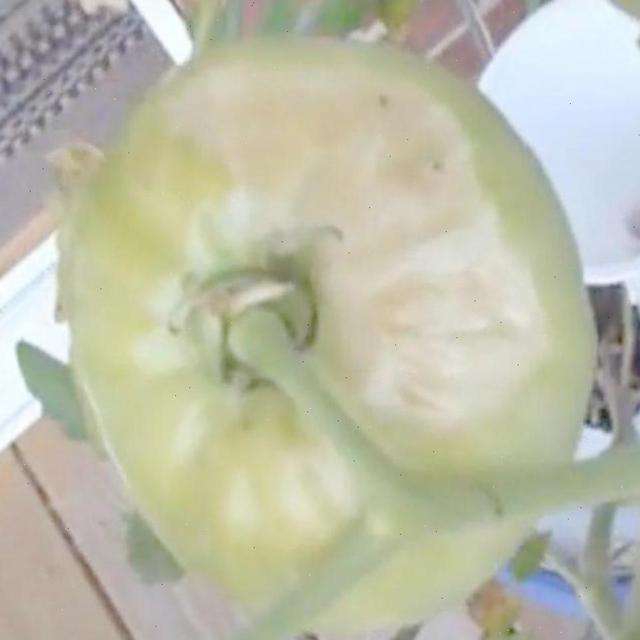Sunscald Fruit: (96, 36, 364, 298)
